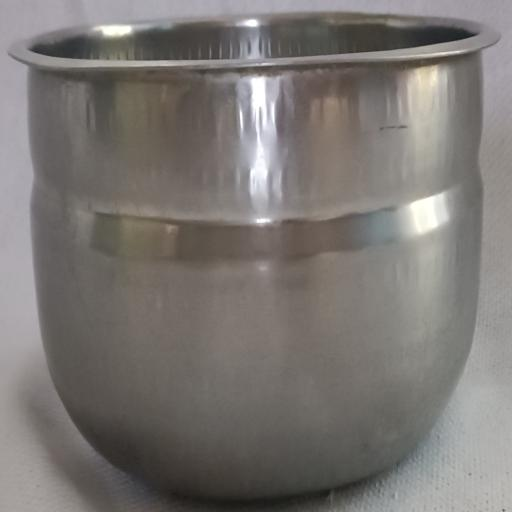vessel: (10, 13, 498, 498)
